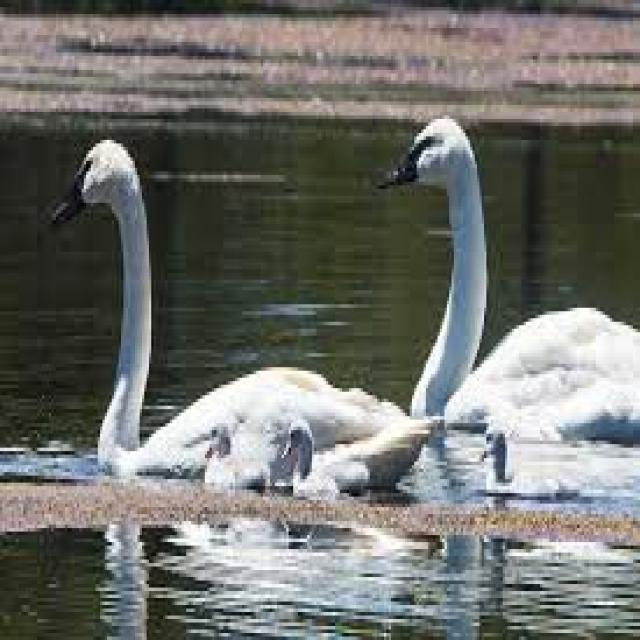swan: (51, 140, 428, 486), (389, 119, 638, 437), (282, 420, 368, 497), (479, 430, 559, 493), (205, 423, 258, 486)
